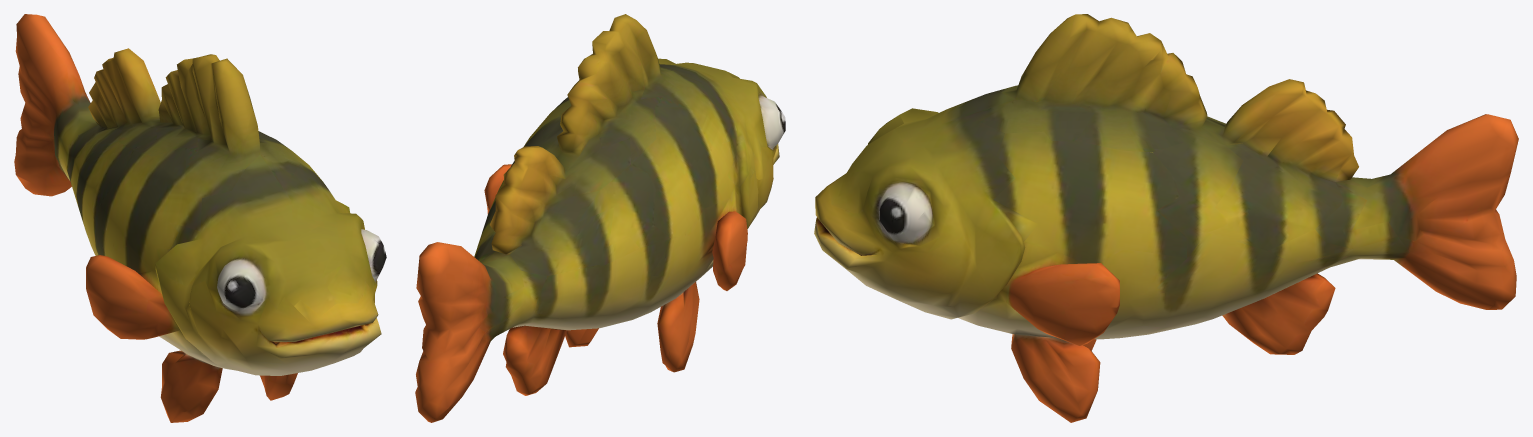
The model's file is fish-perch.glb.
3 renders of one model, left to right at view 1: azimuth 30°, elevation 25°; view 2: azimuth 150°, elevation 25°; view 3: azimuth 270°, elevation 25°, orthographic. The views are drawn at different scales.
Parts seen in each view (by area): view 1: tripo_node_6a9908ce-269b-4c8a-8143-97162bd32d55; view 2: tripo_node_6a9908ce-269b-4c8a-8143-97162bd32d55; view 3: tripo_node_6a9908ce-269b-4c8a-8143-97162bd32d55.
Part boxes in pixels (box(x1,y1,x2,y2)): tripo_node_6a9908ce-269b-4c8a-8143-97162bd32d55: box(14, 14, 386, 422); tripo_node_6a9908ce-269b-4c8a-8143-97162bd32d55: box(415, 14, 785, 422); tripo_node_6a9908ce-269b-4c8a-8143-97162bd32d55: box(814, 14, 1518, 422).
Size of the model in its own units: 0.4446 by 0.5931 by 1.
Materials: 1 (1 with a texture image).
